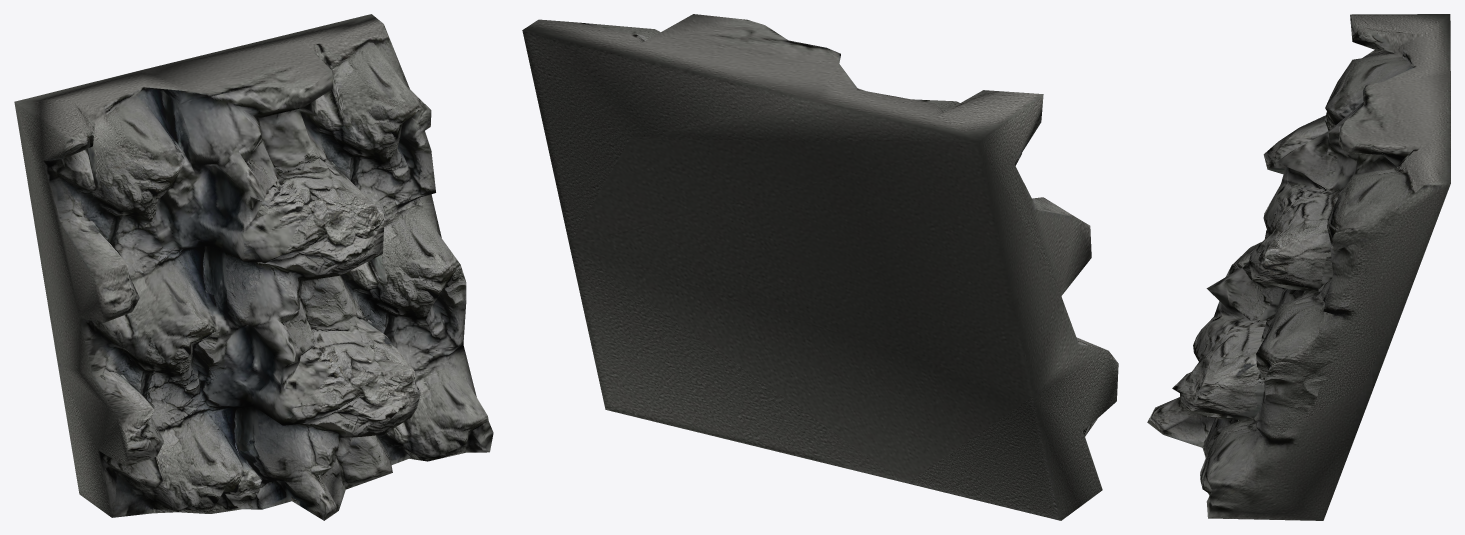
File: M7-Pared1.glb
The picture shows the model from 3 angles, left to right: view 1: azimuth 30°, elevation 25°; view 2: azimuth 150°, elevation 25°; view 3: azimuth 270°, elevation 25°; orthographic projection. The views are drawn at different scales.
Parts seen in each view (by area): view 1: tripo_node_4b92a813-e2dd-4a25-809a-4dce5679f8a9; view 2: tripo_node_4b92a813-e2dd-4a25-809a-4dce5679f8a9; view 3: tripo_node_4b92a813-e2dd-4a25-809a-4dce5679f8a9.
Boxes of the visible parts, bbox=[...] form: tripo_node_4b92a813-e2dd-4a25-809a-4dce5679f8a9: bbox=[14, 14, 493, 520]; tripo_node_4b92a813-e2dd-4a25-809a-4dce5679f8a9: bbox=[522, 14, 1118, 520]; tripo_node_4b92a813-e2dd-4a25-809a-4dce5679f8a9: bbox=[1147, 14, 1450, 520].
Bounding box in the file's own units: 0.9797 × 0.9088 × 0.7385.
1 material, 1 textured.
